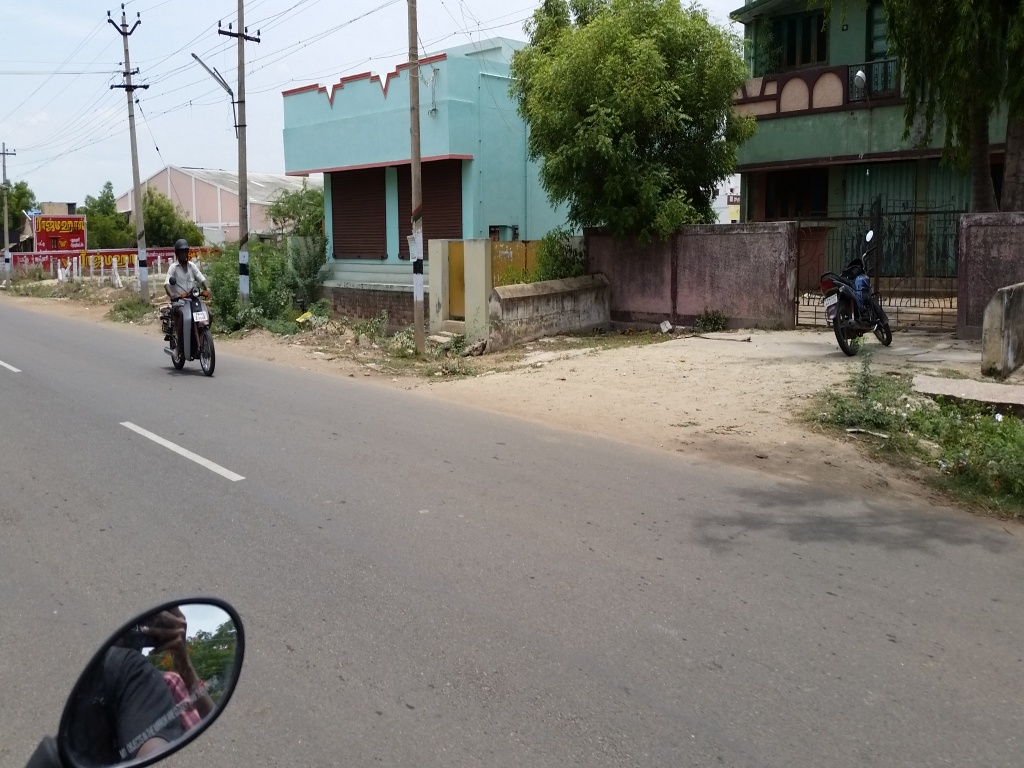biker: (145, 215, 236, 389)
helmet: (168, 228, 198, 273)
